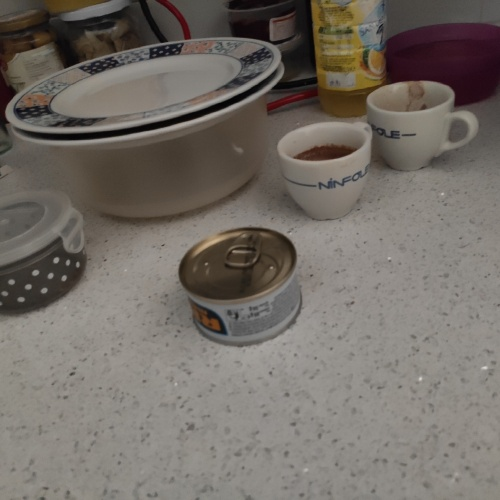tonno: (172, 225, 318, 351)
